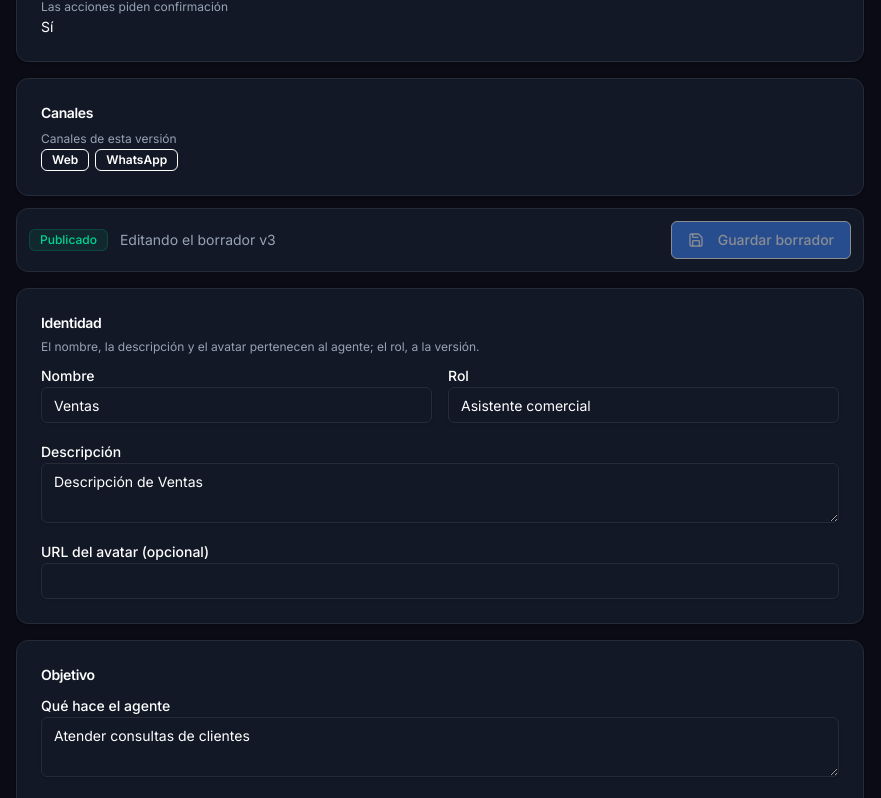
Test: Builder — formulario › limpio: guardar deshabilitado, sin barra de cambios; al editar aparece el estado sin guardar
The image size is (881, 798).
(page scrolled)
Check: the button with test id "save-draft-button" is disabled, box [671,221,851,259]
Replace the text in the field labelled "Rol" with "Vendedor" at (644, 405), box [448,387,839,423]
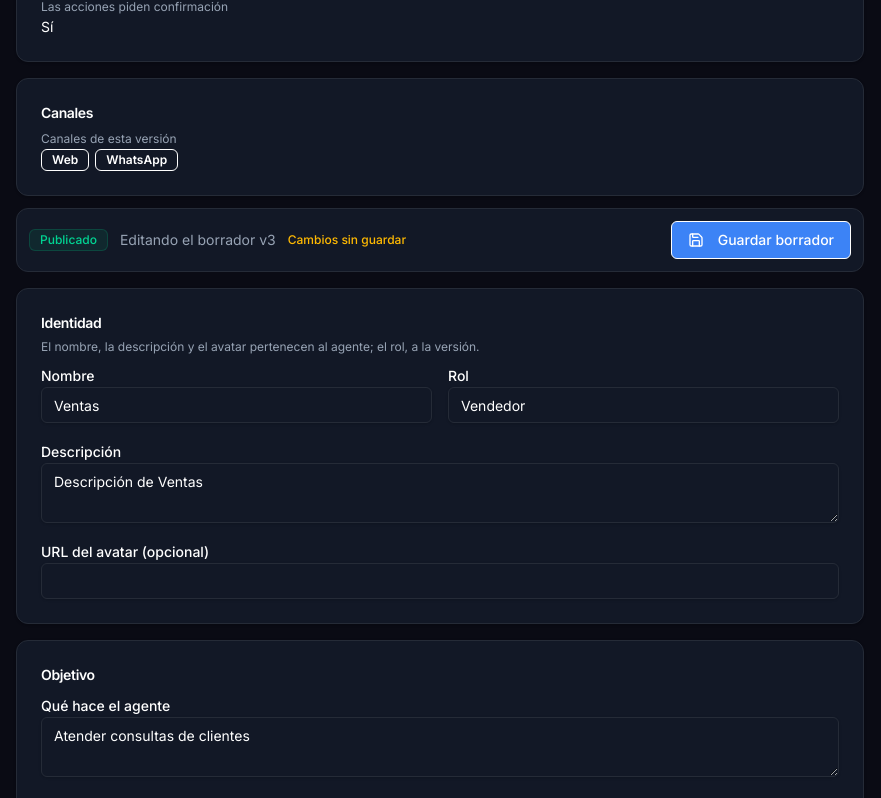
Check: the text "Cambios sin guardar" is shown, box [288,232,406,248]
Check: the button with test id "save-draft-button" is enabled, box [671,221,851,259]
